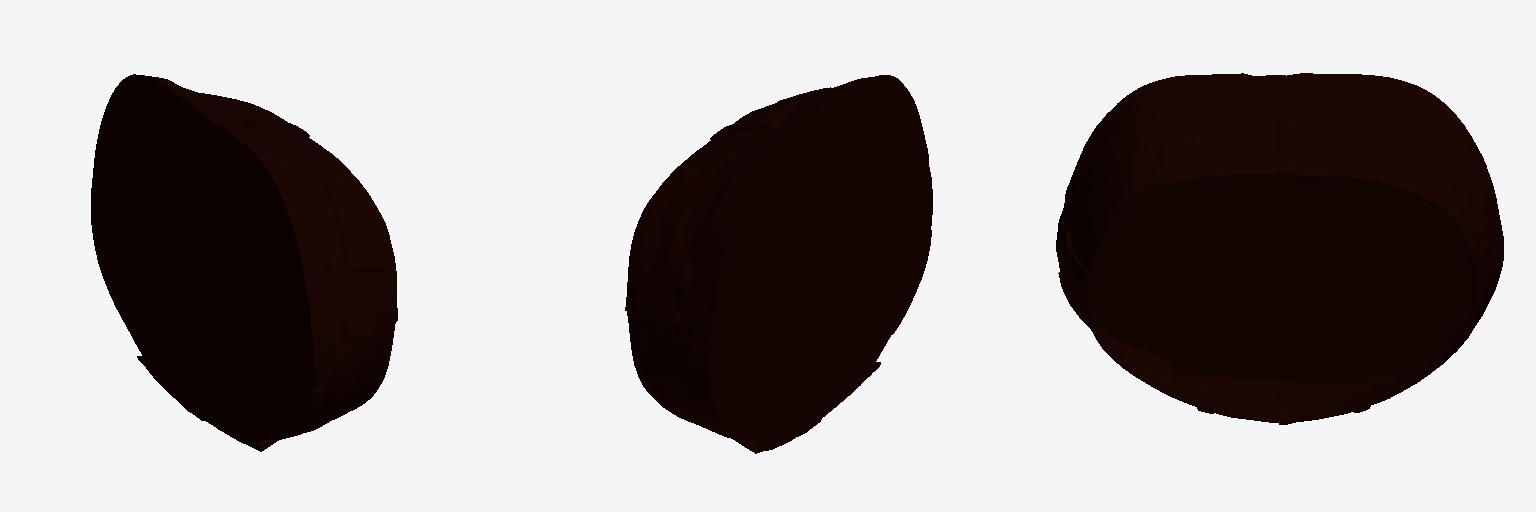
The model's file is hip.obj.
3 renders of one model, left to right at view 1: azimuth 30°, elevation 25°; view 2: azimuth 150°, elevation 25°; view 3: azimuth 270°, elevation 25°, orthographic.
Parts seen in each view (by area): view 1: hip_l_Legs_UV1.015; view 2: hip_l_Legs_UV1.015; view 3: hip_l_Legs_UV1.015.
Part boxes in pixels (x1,y1,x2,y2): hip_l_Legs_UV1.015: (91, 74, 397, 451); hip_l_Legs_UV1.015: (625, 75, 932, 453); hip_l_Legs_UV1.015: (1056, 73, 1503, 424).
Bounding box in the file's own units: 0.0779 × 0.2191 × 0.2839.